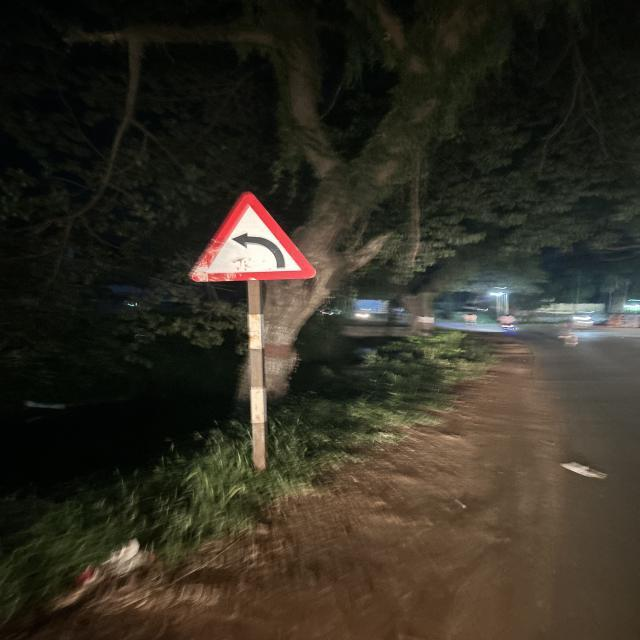left hand curve: (192, 182, 311, 284)
